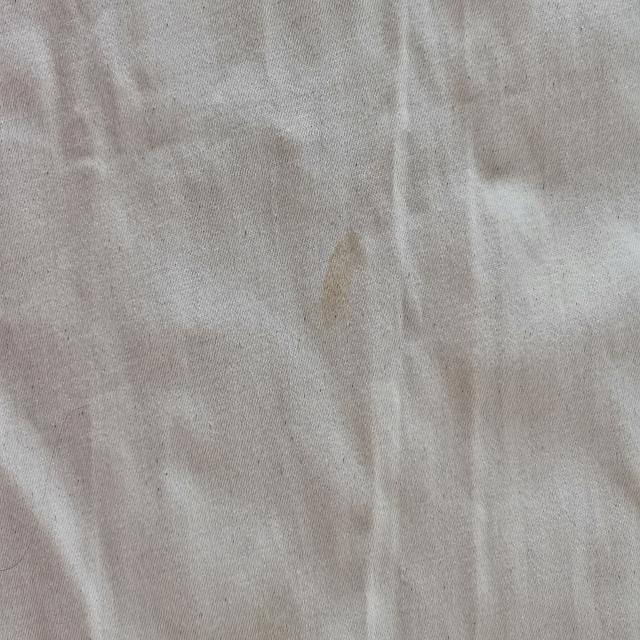taaaches: (321, 229, 369, 339)
